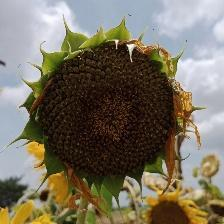sunflower: (37, 38, 191, 187), (144, 190, 209, 224), (199, 151, 221, 182)
